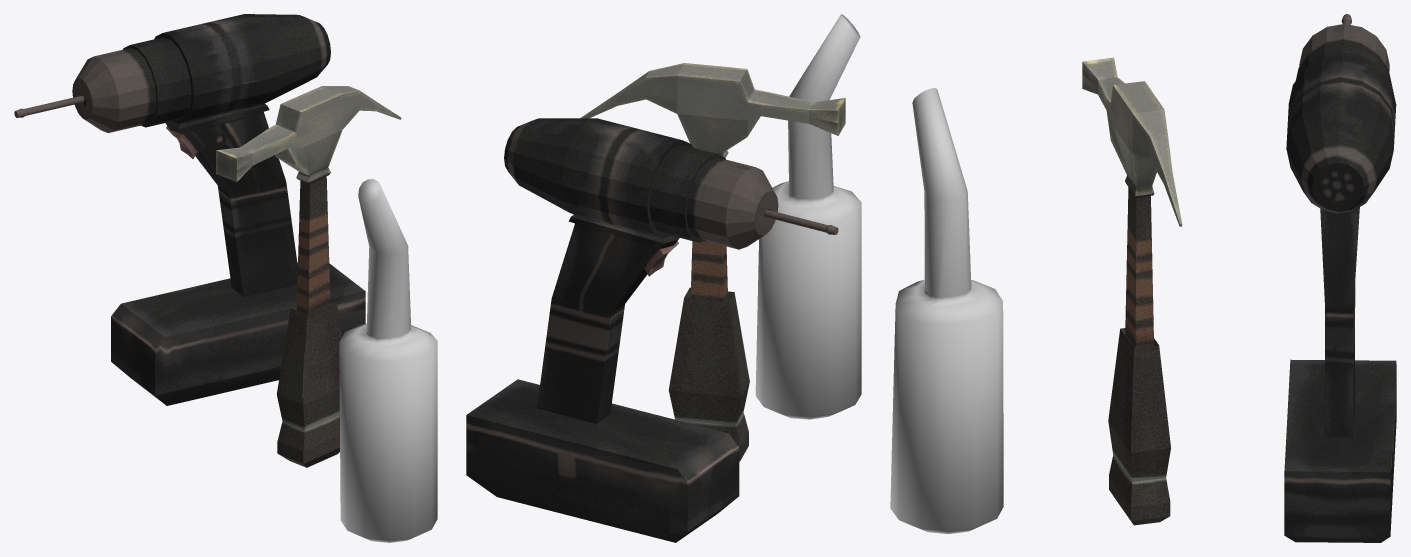
3 views of the same model, side by side, from view 1: azimuth 30°, elevation 25°; view 2: azimuth 150°, elevation 25°; view 3: azimuth 270°, elevation 25° (orthographic). The views are drawn at different scales.
Parts seen in each view (by area): view 1: Drill, Blowtorch, Hammer; view 2: Drill, Blowtorch, Hammer; view 3: Drill, Blowtorch, Hammer.
Boxes of the visible parts, x1,y1,x2,y2 form: Drill: (14,14,365,405); Blowtorch: (339,179,437,542); Hammer: (216,86,401,467); Drill: (466,118,838,542); Blowtorch: (755,14,861,419); Hammer: (580,63,845,461); Drill: (1284,14,1396,542); Blowtorch: (890,88,1003,534); Hammer: (1082,57,1182,525).
Size of the model in its own units: 22.7 by 25.27 by 26.59.
